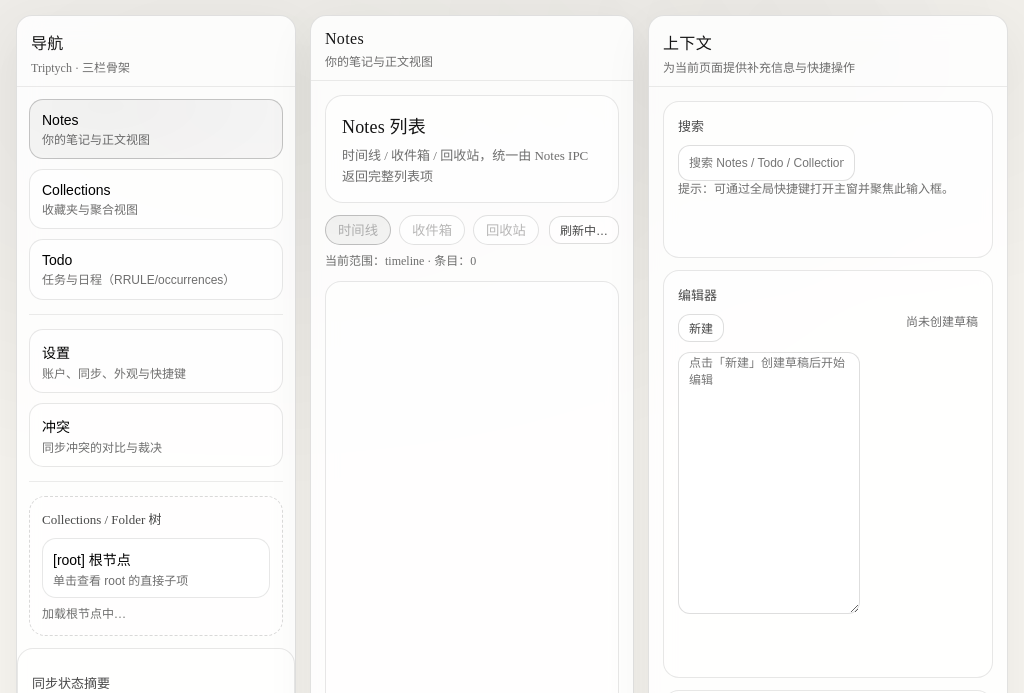
Test case: <App /> › 设置页：下载完成态必须出现“安装并重启/稍后再说”按钮
Click the button with test id "nav-settings" at (156,361), box x1=29 y1=329 x2=283 y2=393
(page scrolled)
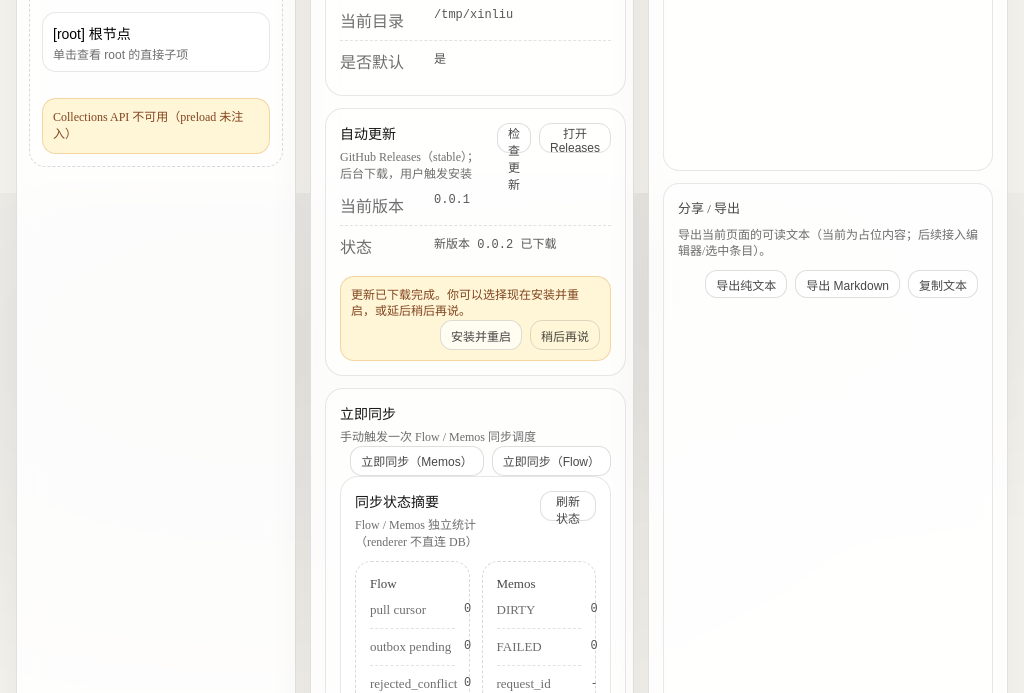
expect the element with test id "update-downloaded" is shown: met, box x1=340 y1=276 x2=611 y2=361
expect the button with test id "update-install-now" is shown: met, box x1=440 y1=320 x2=522 y2=350
expect the button with test id "update-defer" is shown: met, box x1=530 y1=320 x2=600 y2=350
